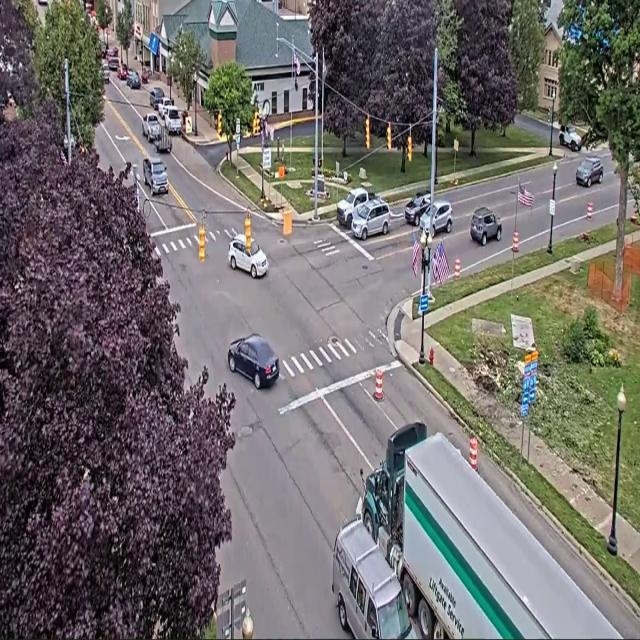car: (228, 334, 279, 389), (228, 234, 267, 278), (351, 198, 390, 239), (470, 208, 501, 246), (420, 200, 452, 236), (143, 158, 168, 196), (405, 192, 430, 226), (576, 156, 603, 187), (559, 124, 582, 151), (142, 113, 162, 142), (164, 106, 181, 134), (157, 96, 173, 119), (150, 87, 164, 110), (126, 70, 142, 89), (107, 53, 119, 71), (117, 64, 128, 79), (100, 40, 107, 59), (141, 67, 149, 83), (103, 63, 109, 83), (108, 47, 118, 56)
traffic signal: (245, 215, 251, 254), (199, 225, 205, 262), (253, 112, 259, 135), (366, 117, 370, 149), (407, 136, 412, 161), (217, 112, 222, 135), (387, 123, 391, 150)
truck: (356, 423, 621, 639), (337, 187, 375, 229), (154, 126, 172, 152)
